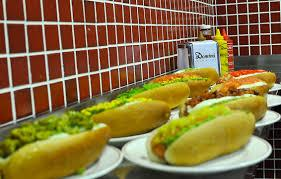Completos: (2, 106, 97, 179), (154, 105, 250, 164), (81, 98, 167, 139), (177, 88, 266, 124), (122, 80, 190, 110)
